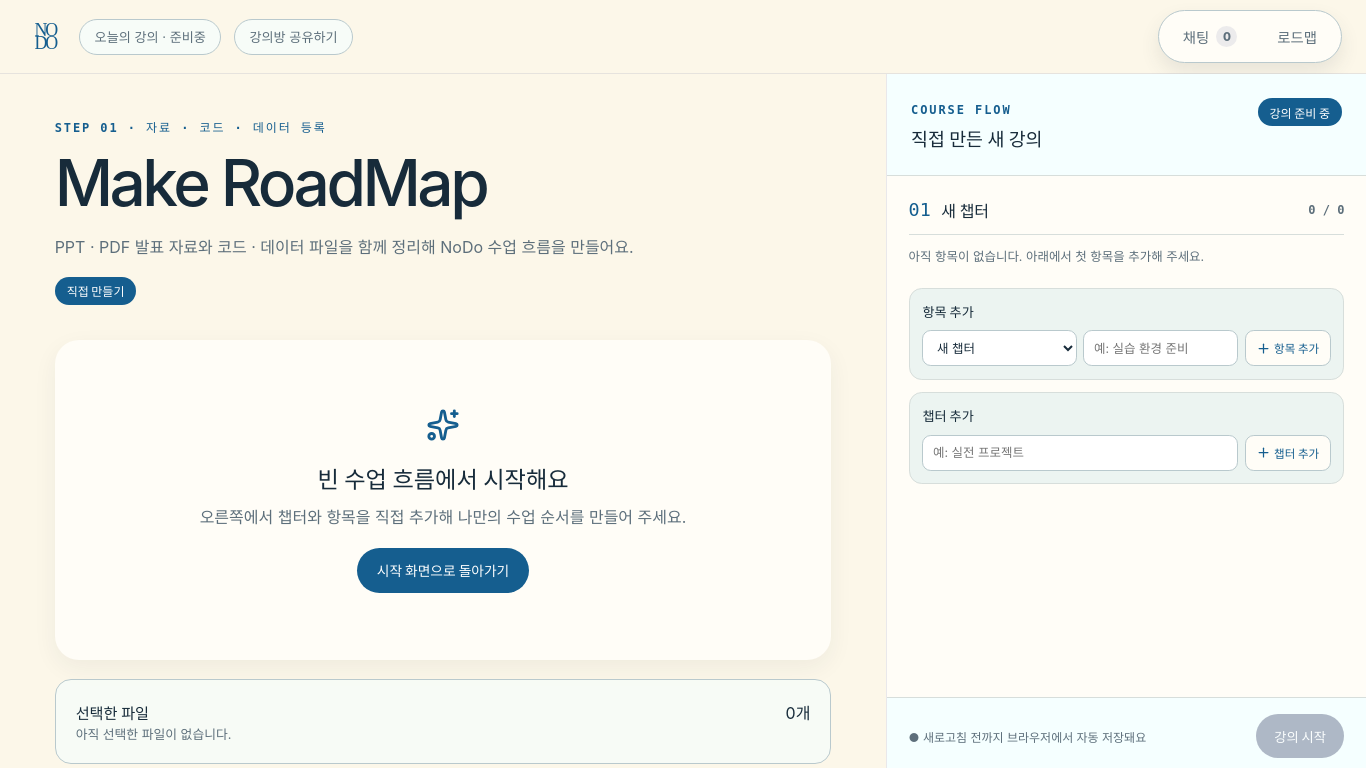
Scenario: NoDo 00-7 demo course flow › 항목이 있으면 강의를 시작해 로드맵으로 이동한다
Expected: the button "강의 시작" is disabled, [1256,714,1344,758]
Type "오리엔테이션" into the field named "새 항목 이름" at (1161, 348), box [1084,330,1238,366]
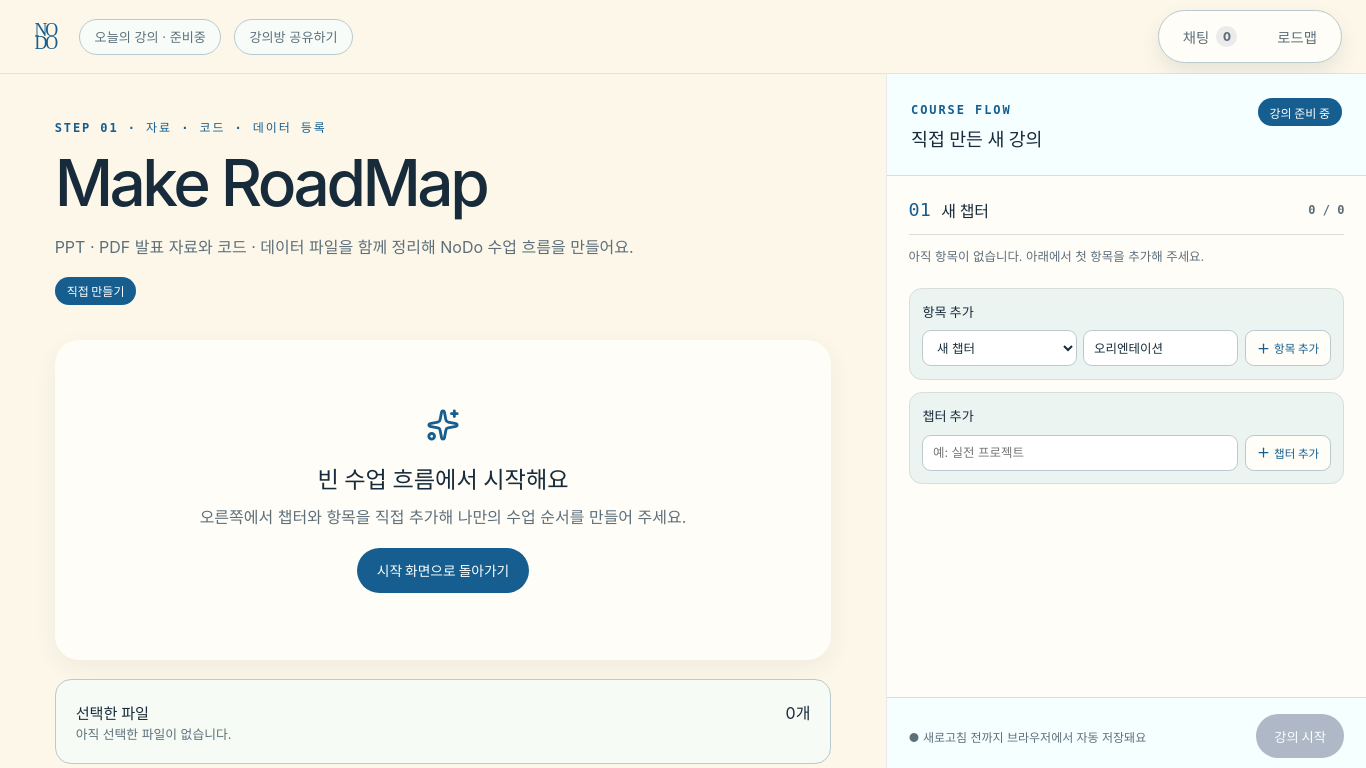
Click the button "항목 추가" at (1288, 348), box [1244,330,1331,366]
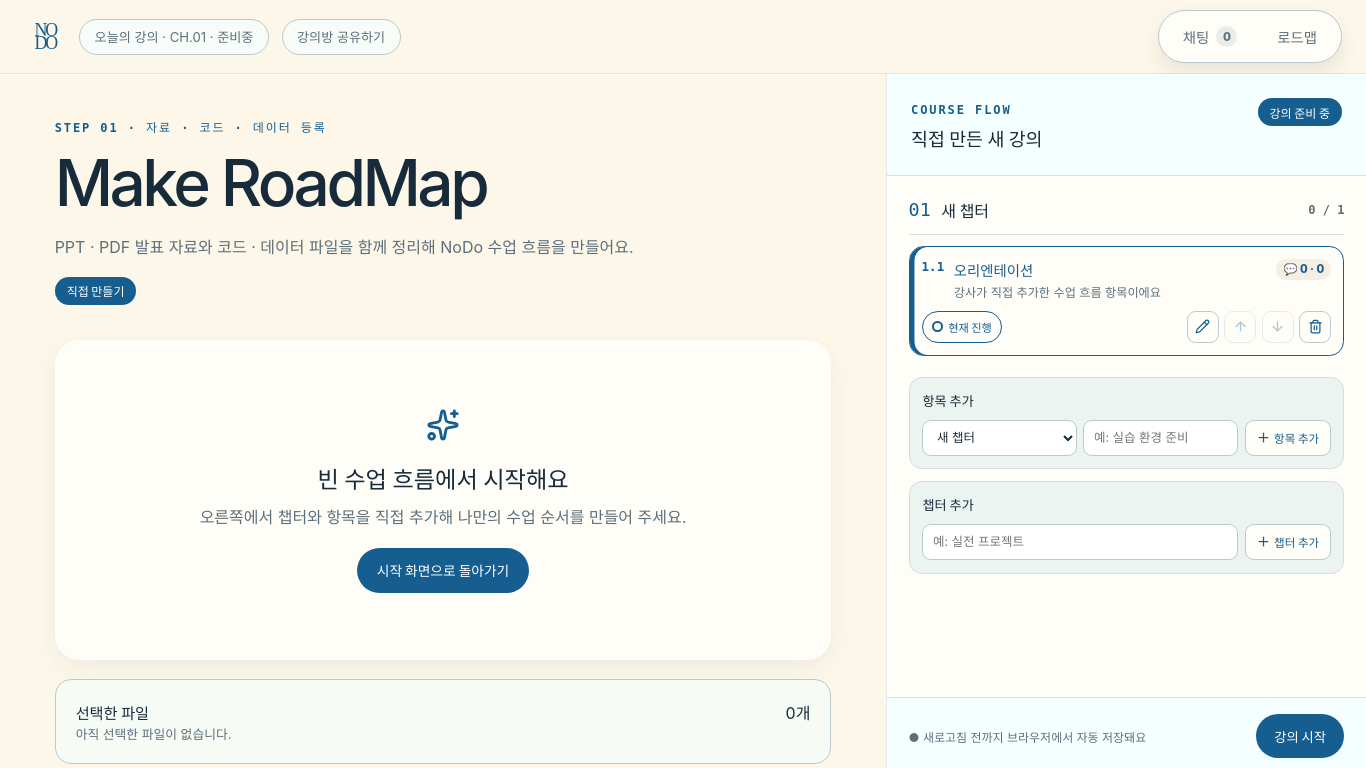
Click the button "강의 시작" at (1300, 736), box [1256,714,1344,758]
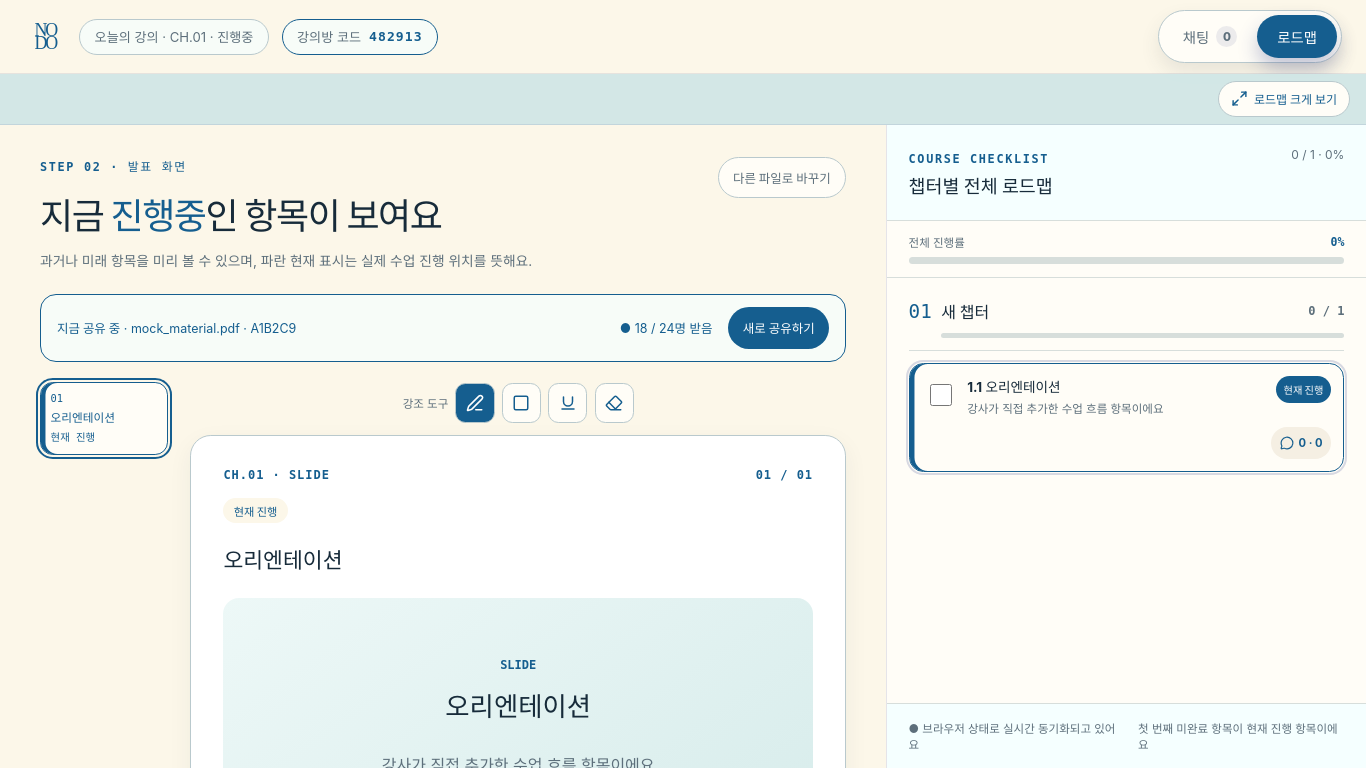
Result: the heading "챕터별 전체 로드맵" is shown at [909,172,1053,198]
